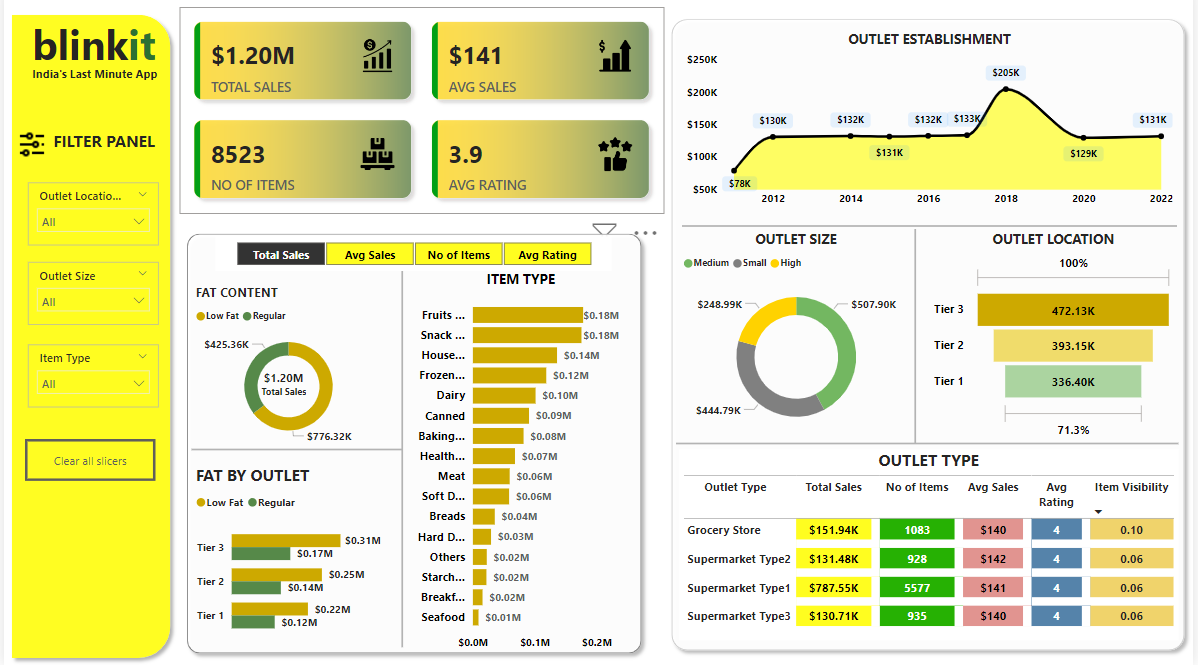

This screenshot's page, from the dashboard's own definition file:
{"tool":"powerbi","page":{"name":"Page 1","canvas":[1400,800],"ordinal":0},"visuals":[{"type":"shape","box":[0,24.7,205,776],"z":0},{"type":"textbox","box":[28.3,30,192.6,74.2],"z":1000},{"type":"textbox","box":[28.3,88.4,169.7,33.6],"z":2000},{"type":"cardVisual","fields":{"Data":["BlinkIT Grocery Data.Total Sales","BlinkIT Grocery Data.Avg Sales","BlinkIT Grocery Data.No of Items","BlinkIT Grocery Data.Avg Rating"]},"box":[206.8,24.7,570.9,243.9],"z":3000},{"type":"shape","box":[206.8,282.8,553.2,512.5],"z":4000},{"type":"donutChart","title":"FAT CONTENT","fields":{"Y":["BlinkIT Grocery Data.Total Sales"],"Category":["BlinkIT Grocery Data.Item Fat Content"]},"box":[220.9,349.9,228,196.2],"z":5000},{"type":"slicer","fields":{"Values":["Metrics.Metrics"]},"box":[249.2,295.1,466.6,40.6],"z":6000},{"type":"cardVisual","fields":{"Data":["BlinkIT Grocery Data.Total Sales"]},"box":[284.5,434.8,90.1,61.9],"z":7000},{"type":"clusteredBarChart","title":"FAT BY OUTLET","fields":{"Y":["BlinkIT Grocery Data.Total Sales"],"Category":["BlinkIT Grocery Data.Outlet Location Type"],"Series":["BlinkIT Grocery Data.Item Fat Content"]},"box":[220.9,563.8,228,215.6],"z":8000},{"type":"shape","box":[220.9,521.4,249.2,49.5],"z":9000},{"type":"shape","box":[440.1,335.8,58.3,443.6],"z":10000},{"type":"barChart","title":"ITEM TYPE","fields":{"Y":["BlinkIT Grocery Data.Total Sales"],"Category":["BlinkIT Grocery Data.Item Type"]},"box":[470.1,334,277.5,457.7],"z":11000},{"type":"shape","box":[777.6,30,622.1,761.7],"z":12000},{"type":"lineChart","title":"OUTLET ESTABLISHMENT","fields":{"Y":["BlinkIT Grocery Data.Total Sales"],"Category":["BlinkIT Grocery Data.Outlet Establishment Year"]},"box":[798.8,51.3,583.2,217.4],"z":13000},{"type":"shape","box":[798.8,258,583.2,49.5],"z":14000},{"type":"donutChart","title":"OUTLET SIZE","fields":{"Y":["BlinkIT Grocery Data.Total Sales"],"Category":["BlinkIT Grocery Data.Outlet Size"]},"box":[795.3,286.3,275.7,252.7],"z":15000},{"type":"funnel","title":"OUTLET LOCATION","fields":{"Y":["Sum(BlinkIT Grocery Data.Sales)"],"Category":["BlinkIT Grocery Data.Outlet Location Type"]},"box":[1090.5,286.3,291.6,252.7],"z":16000},{"type":"shape","box":[1044.5,286.3,58.3,252.7],"z":17000},{"type":"shape","box":[791.8,514.3,592.1,49.5],"z":18000},{"type":"pivotTable","title":"OUTLET TYPE","fields":{"Rows":["BlinkIT Grocery Data.Outlet Type"],"Values":["BlinkIT Grocery Data.Total Sales","BlinkIT Grocery Data.No of Items","BlinkIT Grocery Data.Avg Sales","BlinkIT Grocery Data.Avg Rating","Avg(BlinkIT Grocery Data.Item Visibility)"]},"box":[795.3,546.1,588.5,224.5],"z":19000},{"type":"slicer","fields":{"Values":["BlinkIT Grocery Data.Outlet Location Type"]},"box":[28.3,231.5,153.8,74.2],"z":20000},{"type":"slicer","fields":{"Values":["BlinkIT Grocery Data.Outlet Size"]},"box":[28.3,325.2,153.8,74.2],"z":21000},{"type":"slicer","fields":{"Values":["BlinkIT Grocery Data.Item Type"]},"box":[28.3,422.4,153.8,74.2],"z":22000},{"type":"textbox","box":[53,164.4,144.9,44.2],"z":23000},{"type":"image","box":[0,164.4,65.4,44.2],"z":24000},{"type":"actionButton","box":[24.7,533.7,153.8,49.5],"z":25000}]}

Visuals, with their boxes in screenshot pixels (x1, y1, x2, y2), scaled from the page's 1400x800 canvas onto the 1198x665 screenshot:
shape: Rect(0, 21, 175, 664)
textbox: Rect(24, 25, 189, 87)
textbox: Rect(24, 73, 169, 101)
cardVisual - BlinkIT Grocery Data.Total Sales x BlinkIT Grocery Data.Avg Sales: Rect(177, 21, 665, 223)
shape: Rect(177, 235, 650, 661)
"FAT CONTENT" donutChart: Rect(189, 291, 384, 454)
slicer - Metrics.Metrics: Rect(213, 245, 613, 279)
cardVisual - BlinkIT Grocery Data.Total Sales: Rect(243, 361, 321, 413)
"FAT BY OUTLET" clusteredBarChart: Rect(189, 469, 384, 648)
shape: Rect(189, 433, 402, 475)
shape: Rect(377, 279, 426, 648)
"ITEM TYPE" barChart: Rect(402, 278, 640, 658)
shape: Rect(665, 25, 1197, 658)
"OUTLET ESTABLISHMENT" lineChart: Rect(684, 43, 1183, 223)
shape: Rect(684, 214, 1183, 256)
"OUTLET SIZE" donutChart: Rect(681, 238, 916, 448)
"OUTLET LOCATION" funnel: Rect(933, 238, 1183, 448)
shape: Rect(894, 238, 944, 448)
shape: Rect(678, 428, 1184, 469)
"OUTLET TYPE" pivotTable: Rect(681, 454, 1184, 641)
slicer - BlinkIT Grocery Data.Outlet Location Type: Rect(24, 192, 156, 254)
slicer - BlinkIT Grocery Data.Outlet Size: Rect(24, 270, 156, 332)
slicer - BlinkIT Grocery Data.Item Type: Rect(24, 351, 156, 413)
textbox: Rect(45, 137, 169, 173)
image: Rect(0, 137, 56, 173)
actionButton: Rect(21, 444, 153, 485)
